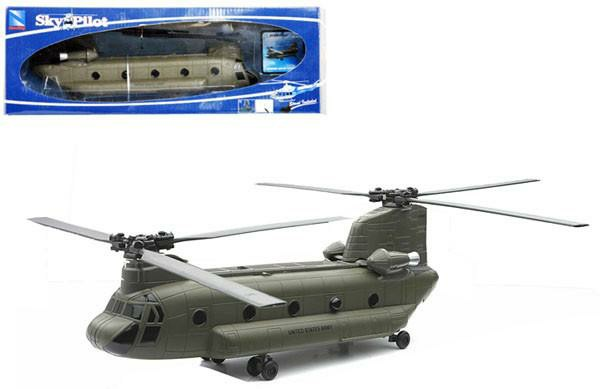chinook: (41, 179, 567, 380)
